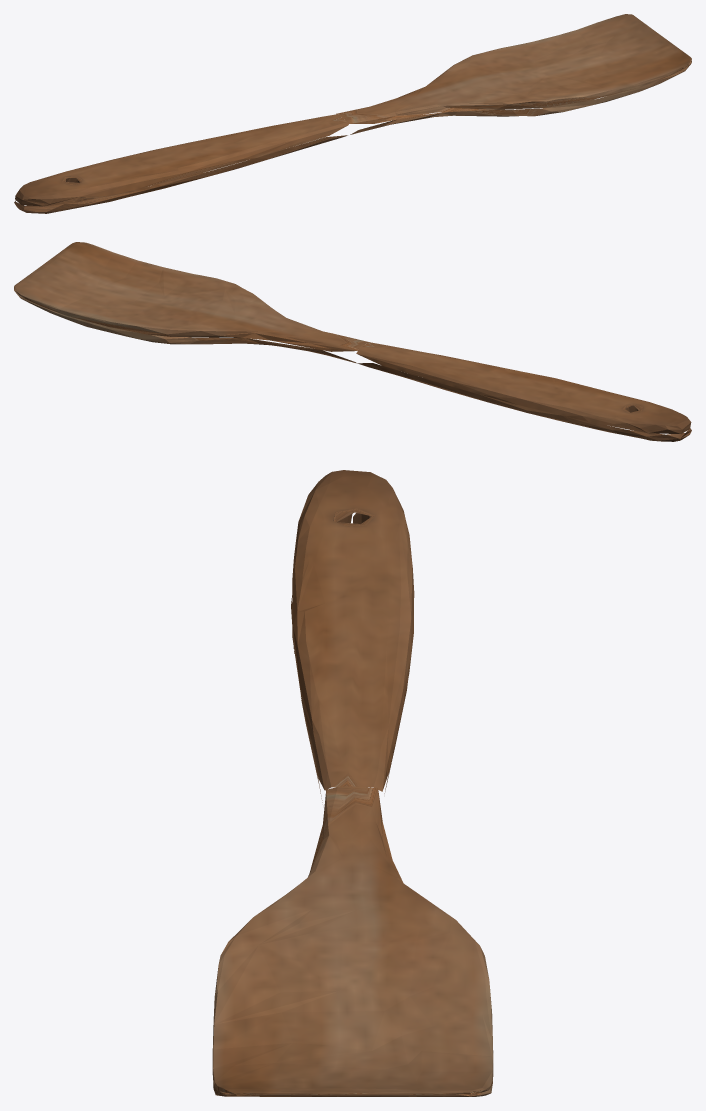
Rendered from utensil_spatula_wooden_a01.glb.
3 renders of one model, top to bottom at view 1: azimuth 30°, elevation 25°; view 2: azimuth 150°, elevation 25°; view 3: azimuth 270°, elevation 25°, orthographic. The views are drawn at different scales.
Parts seen in each view (by area): view 1: geometry_0; view 2: geometry_0; view 3: geometry_0.
Boxes of the visible parts, bbox=[...] form: geometry_0: bbox=[14, 14, 691, 213]; geometry_0: bbox=[14, 242, 691, 441]; geometry_0: bbox=[212, 470, 493, 1096].
Size of the model in its own units: 0.42 by 0.0123 by 0.0792.
1 material, 1 textured.
